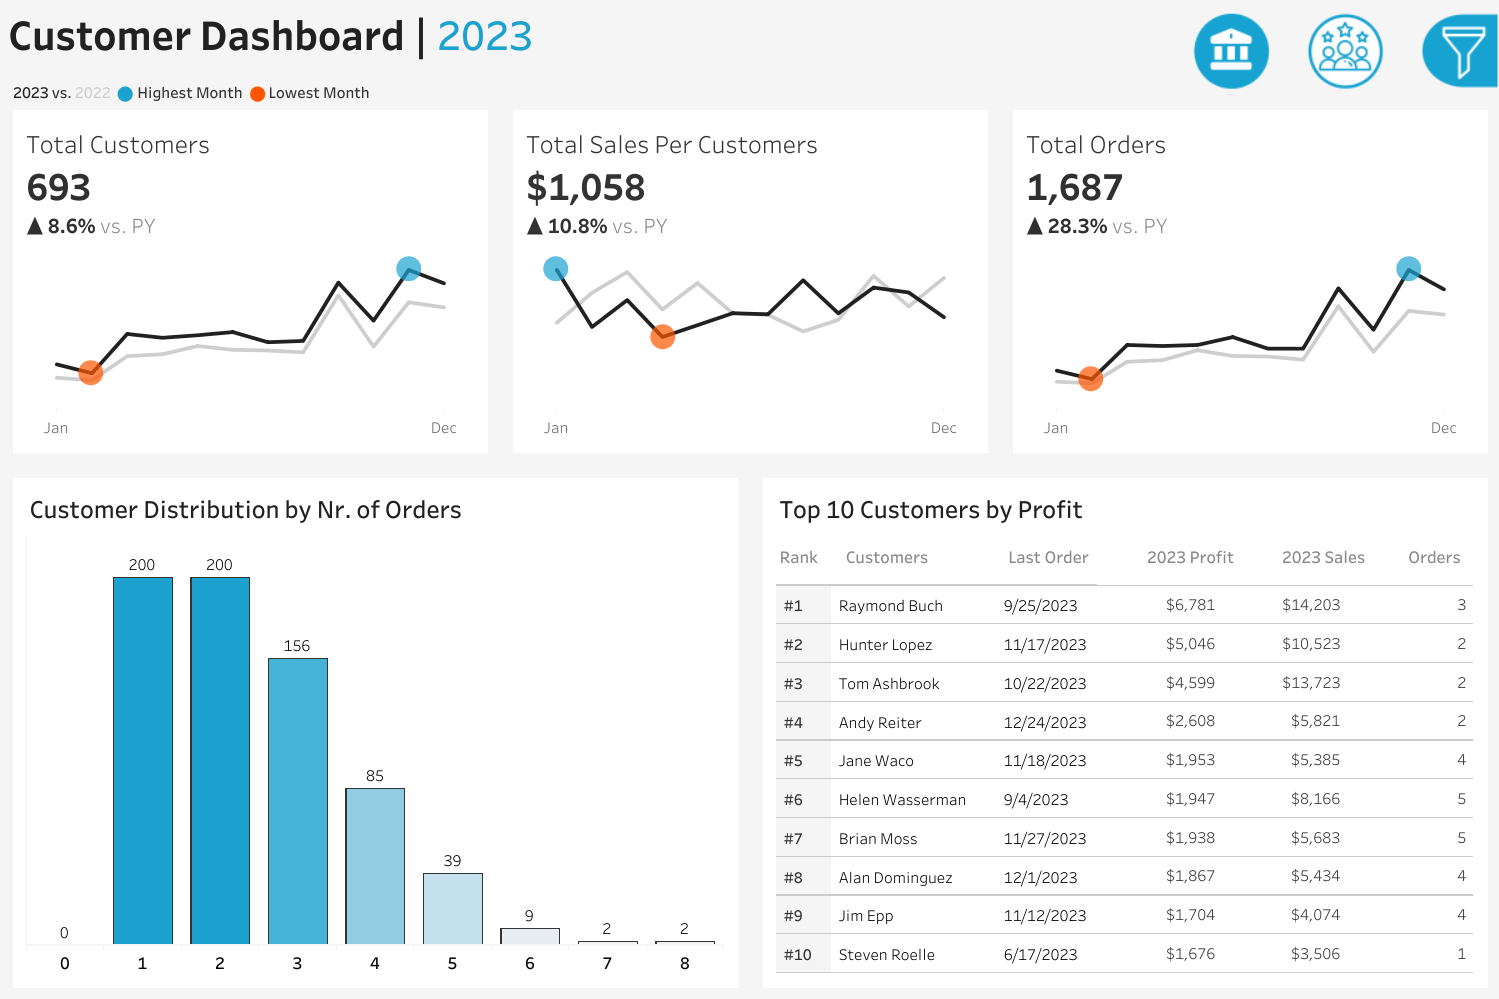

This screenshot's page, from the dashboard's own definition file:
{"tool":"tableau","page":{"name":"Customer Dashboard","canvas":[1200,800],"ordinal":0},"visuals":[{"type":"text","box":[0,0,1200,59]},{"type":"dashboard-object","box":[940,6,91,70]},{"type":"dashboard-object","box":[1031,6,91,70]},{"type":"blank","box":[952,10,237,86]},{"type":"worksheet","title":"Legend KPI","mark":"Automatic","box":[0,59,1200,29]},{"type":"worksheet","title":"KPI Customers","mark":"Automatic","rows":["Min/Max Quantity (copy)_3221481164588691468"],"cols":["Order Date"],"box":[0,88,400,284]},{"type":"worksheet","title":"KPI Sales Per Customers","mark":"Automatic","rows":["Min/Max Quantity (copy)_3221481164537155591"],"cols":["Order Date"],"box":[400,88,400,284]},{"type":"worksheet","title":"KPI Orders","mark":"Automatic","rows":["Min/Max Sales (copy)_3221481164601258003"],"cols":["Order Date"],"box":[800,88,400,284]},{"type":"text","box":[952,96,237,37]},{"type":"parameter","param":"[Parameters].[Parameter 1]","box":[952,133,237,55]},{"type":"text","box":[952,188,237,32]},{"type":"filter","title":"KPI Customers","param":"[federated.1kpxa041aiai2y1cl4pui1t4eju9].[none:Category:nk]","box":[952,220,237,57]},{"type":"filter","title":"KPI Customers","param":"[federated.1kpxa041aiai2y1cl4pui1t4eju9].[none:Sub-Category:nk]","box":[952,277,237,57]},{"type":"blank","box":[952,334,237,60]},{"type":"text","box":[17,389,566,40]},{"type":"text","box":[617,389,566,40]},{"type":"text","box":[952,394,237,32]},{"type":"filter","title":"KPI Customers","param":"[federated.1kpxa041aiai2y1cl4pui1t4eju9].[none:Region:nk]","box":[952,426,237,57]},{"type":"worksheet","title":"Customer Distribution","mark":"Bar","rows":["CY Sales (copy)_3221481164532666369"],"cols":["Calculation_998110323739992064"],"box":[17,429,566,354]},{"type":"text","box":[617,429,53,40]},{"type":"text","box":[670,429,130,40]},{"type":"text","box":[800,429,111,40]},{"type":"text","box":[911,429,108,40]},{"type":"text","box":[1019,429,101,40]},{"type":"text","box":[1120,429,63,40]},{"type":"worksheet","title":"Top Customers","mark":"Automatic","rows":["Calculation_782500491678904334","Customer Name","Order Date"],"box":[617,469,566,314]},{"type":"filter","title":"KPI Customers","param":"[federated.1kpxa041aiai2y1cl4pui1t4eju9].[none:State:nk]","box":[952,483,237,57]},{"type":"filter","title":"KPI Customers","param":"[federated.1kpxa041aiai2y1cl4pui1t4eju9].[none:City:nk]","box":[952,540,237,57]}]}

Visuals, with their boxes in screenshot pixels (x1, y1, x2, y2), scaled from the page's 1200x800 canvas onto the 1499x999 screenshot:
text: select_region(0, 0, 1498, 74)
dashboard-object: select_region(1174, 7, 1288, 95)
dashboard-object: select_region(1288, 7, 1402, 95)
blank: select_region(1189, 12, 1485, 120)
"Legend KPI" worksheet: select_region(0, 74, 1498, 110)
"KPI Customers" worksheet: select_region(0, 110, 500, 465)
"KPI Sales Per Customers" worksheet: select_region(500, 110, 999, 465)
"KPI Orders" worksheet: select_region(999, 110, 1498, 465)
text: select_region(1189, 120, 1485, 166)
parameter: select_region(1189, 166, 1485, 235)
text: select_region(1189, 235, 1485, 275)
"KPI Customers" filter: select_region(1189, 275, 1485, 346)
"KPI Customers" filter: select_region(1189, 346, 1485, 417)
blank: select_region(1189, 417, 1485, 492)
text: select_region(21, 486, 728, 536)
text: select_region(771, 486, 1478, 536)
text: select_region(1189, 492, 1485, 532)
"KPI Customers" filter: select_region(1189, 532, 1485, 603)
"Customer Distribution" worksheet (Bar marks): select_region(21, 536, 728, 978)
text: select_region(771, 536, 837, 586)
text: select_region(837, 536, 999, 586)
text: select_region(999, 536, 1138, 586)
text: select_region(1138, 536, 1273, 586)
text: select_region(1273, 536, 1399, 586)
text: select_region(1399, 536, 1478, 586)
"Top Customers" worksheet: select_region(771, 586, 1478, 978)
"KPI Customers" filter: select_region(1189, 603, 1485, 674)
"KPI Customers" filter: select_region(1189, 674, 1485, 746)
